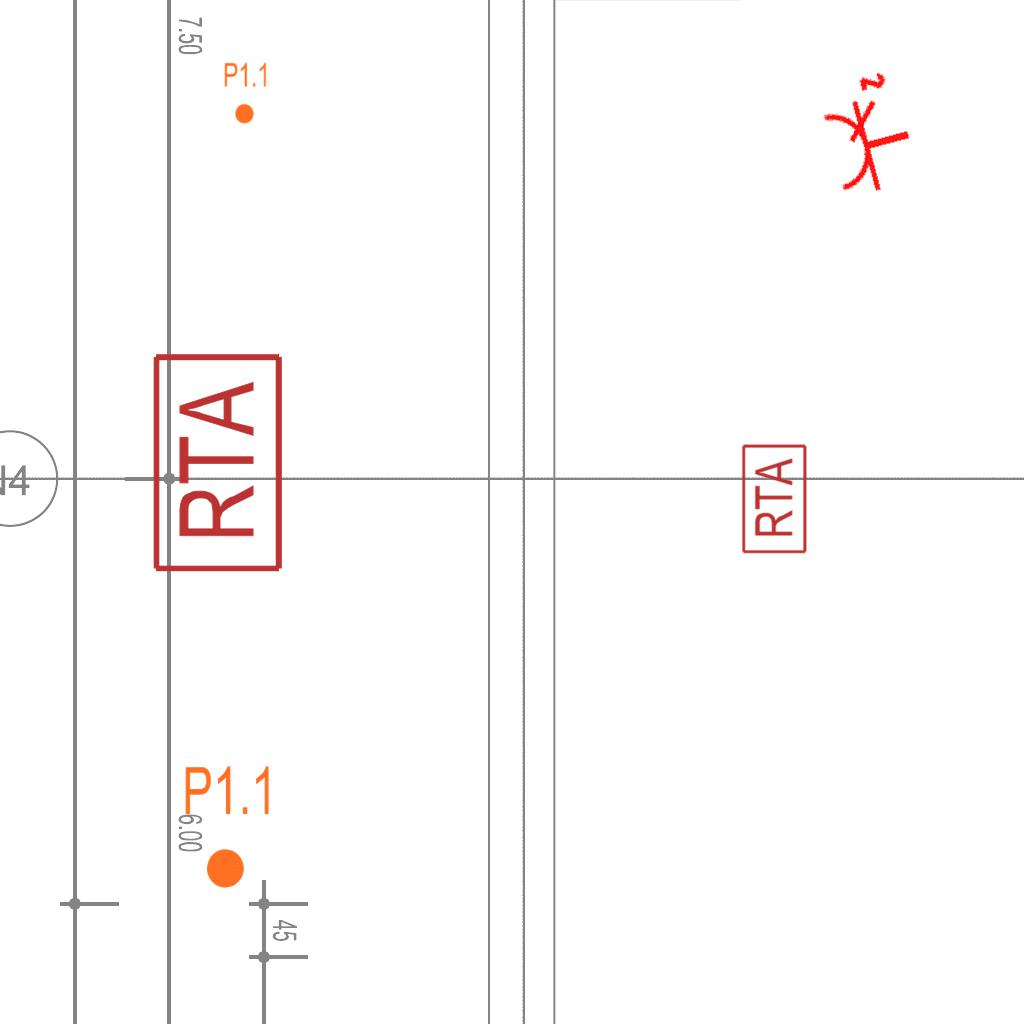Downlight_LED_Einbauleuchten_Flur_2: (182, 763, 275, 891), (223, 61, 269, 125)
Ruf-und_Abstelltaster: (149, 351, 287, 579), (740, 443, 809, 557)
Schukosteckdose_mehrfach: (811, 65, 928, 205)
